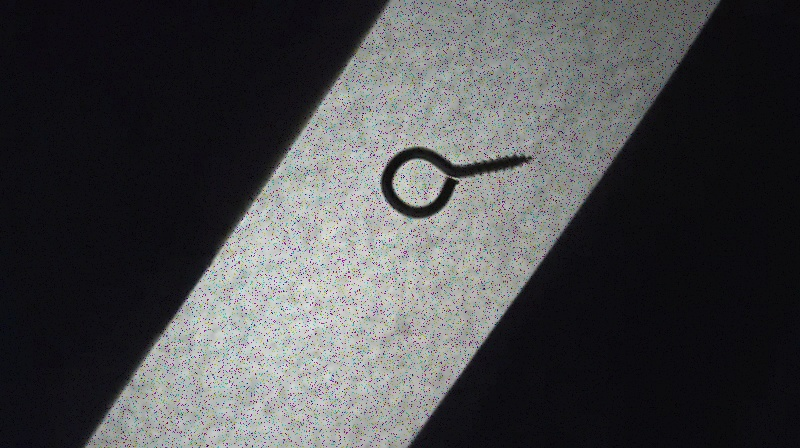O001: (377, 141, 535, 224)
